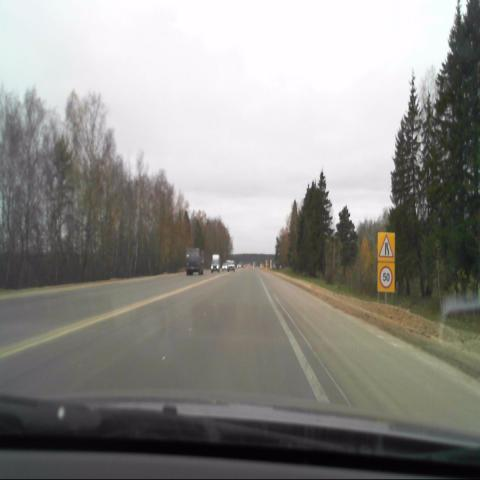1_20_2: (377, 233, 395, 261)
